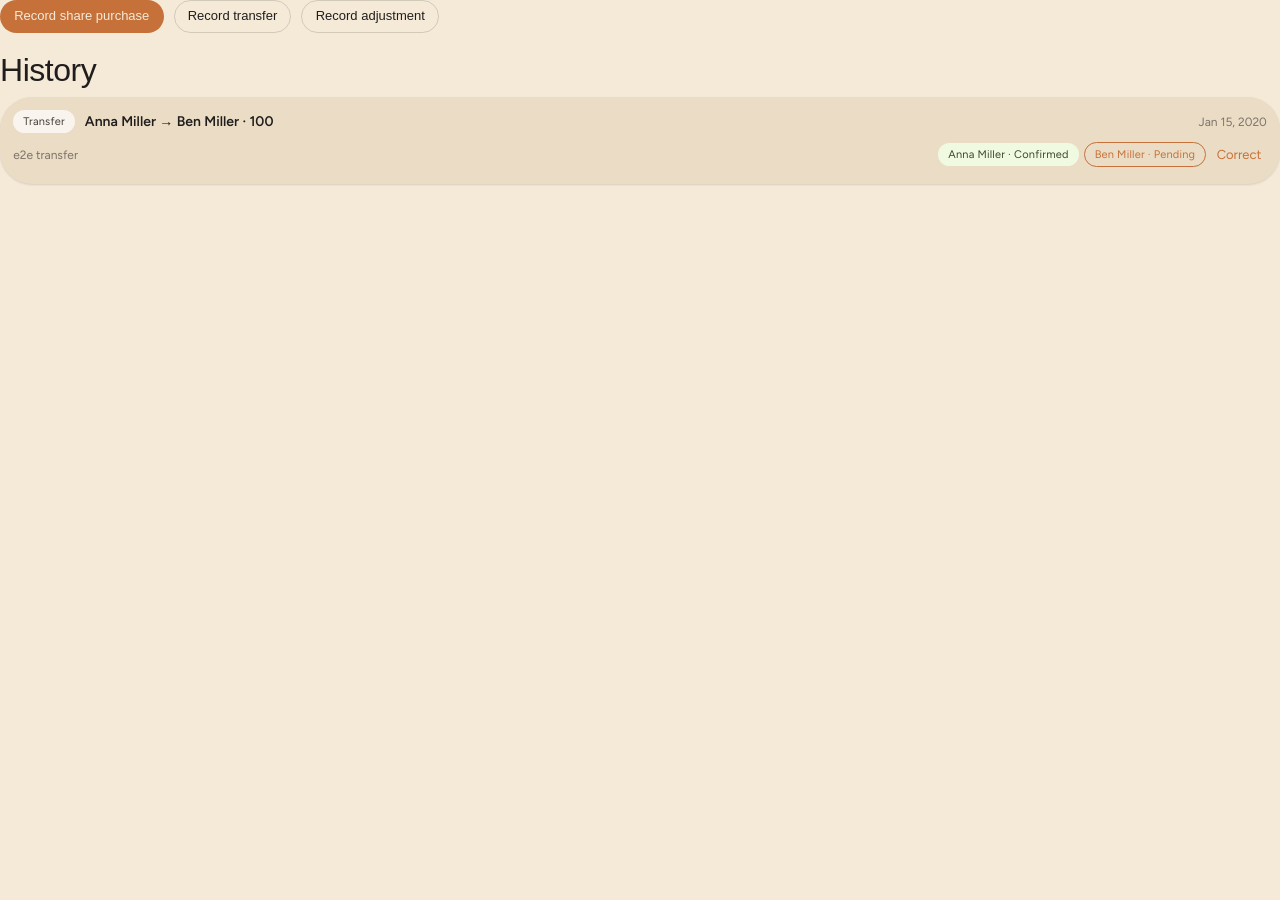
Scenario: CAP-037 Transaction dates and fiscal year — the forms › CAP-037 · Share transactions default to today (Record transfer)
Click the button "Record transfer" at (232, 16), box x1=174 y1=0 x2=292 y2=32
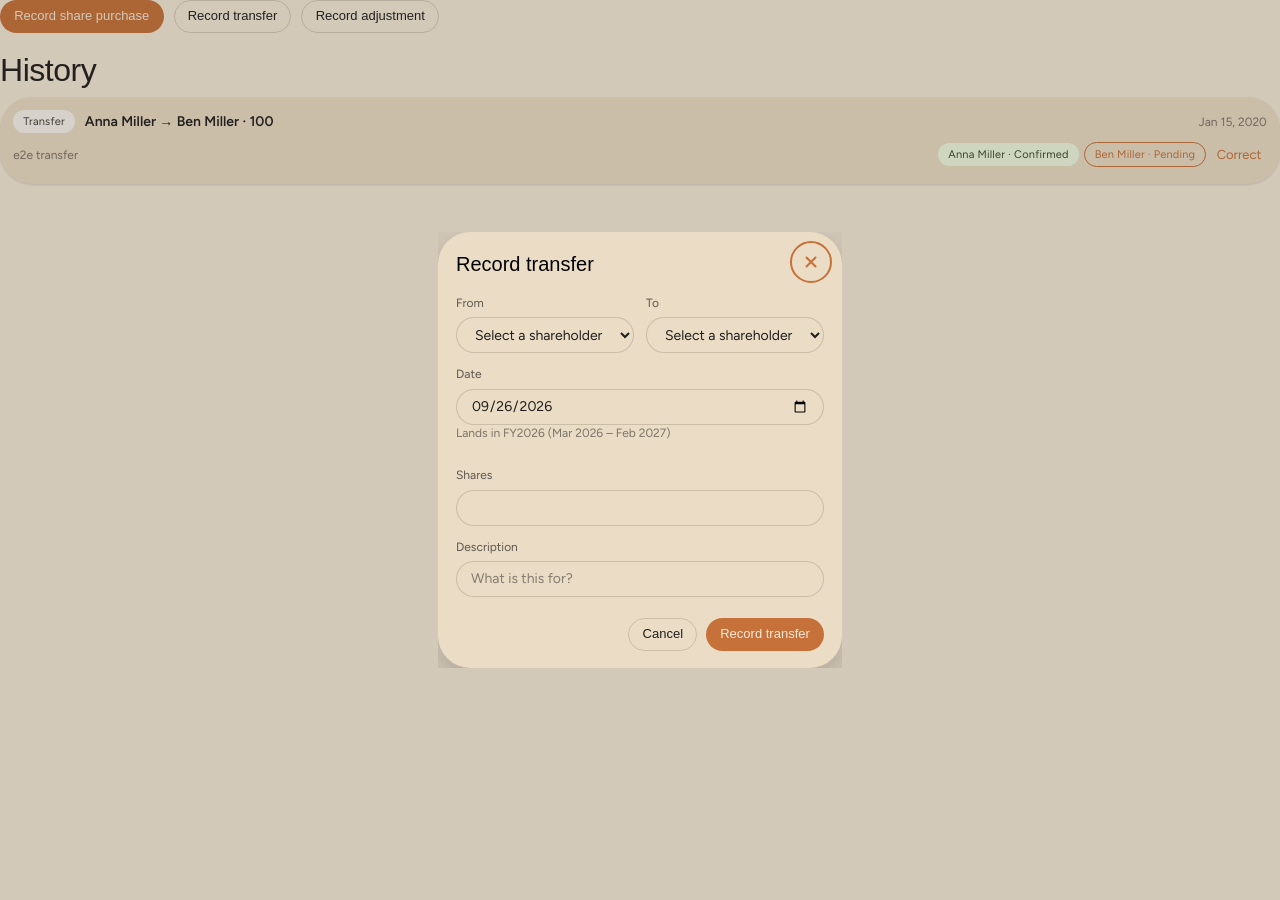
Expected: the date field labelled "Date" holds "2026-09-26", x1=456 y1=389 x2=824 y2=425
Expected: the text "Lands in FY2026 (Mar 2026 – Feb 2027)" is shown, x1=456 y1=426 x2=670 y2=440
